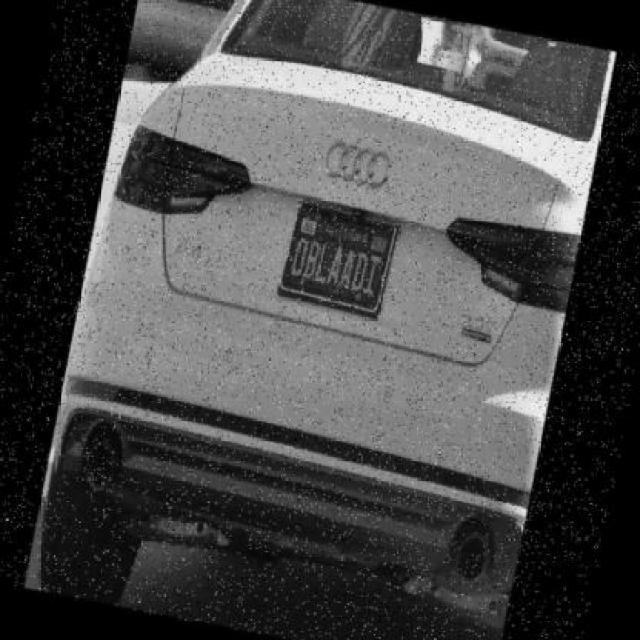licenseplate: (282, 202, 400, 313)
